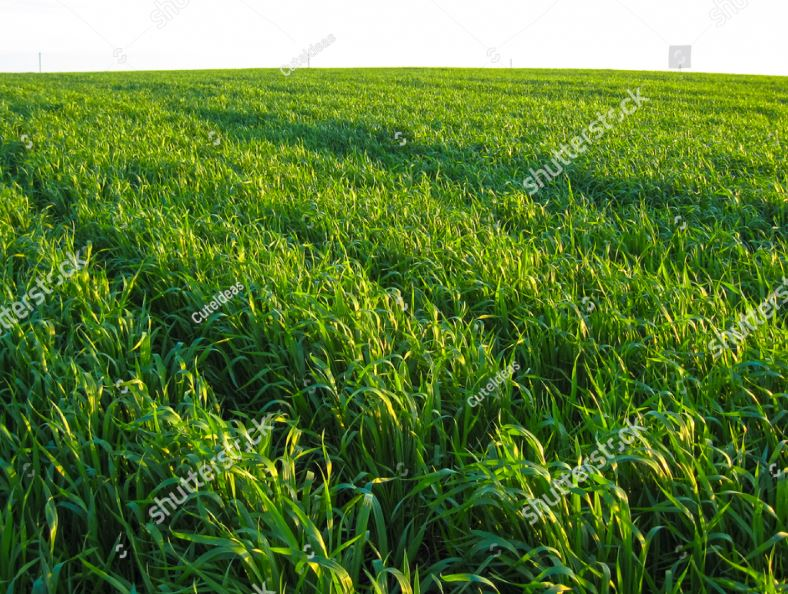Wheat: (2, 343, 449, 594)
